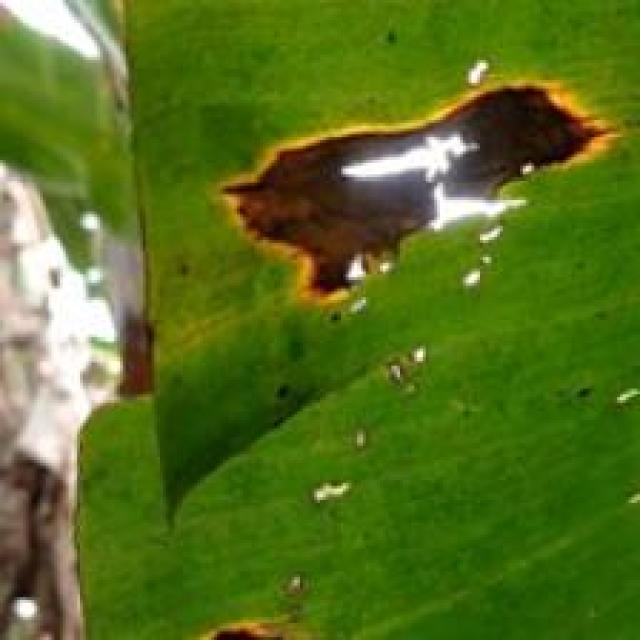Bacterial_spot: (195, 75, 624, 312), (292, 413, 389, 518), (99, 304, 173, 420), (351, 337, 454, 407), (171, 610, 326, 640), (570, 367, 640, 422), (276, 553, 340, 602)
